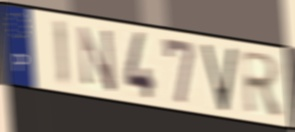4: (123, 29, 157, 102)
7: (160, 35, 196, 107)
I: (52, 17, 71, 89)
N: (76, 23, 118, 96)
R: (239, 48, 287, 119)
V: (200, 43, 238, 114)
